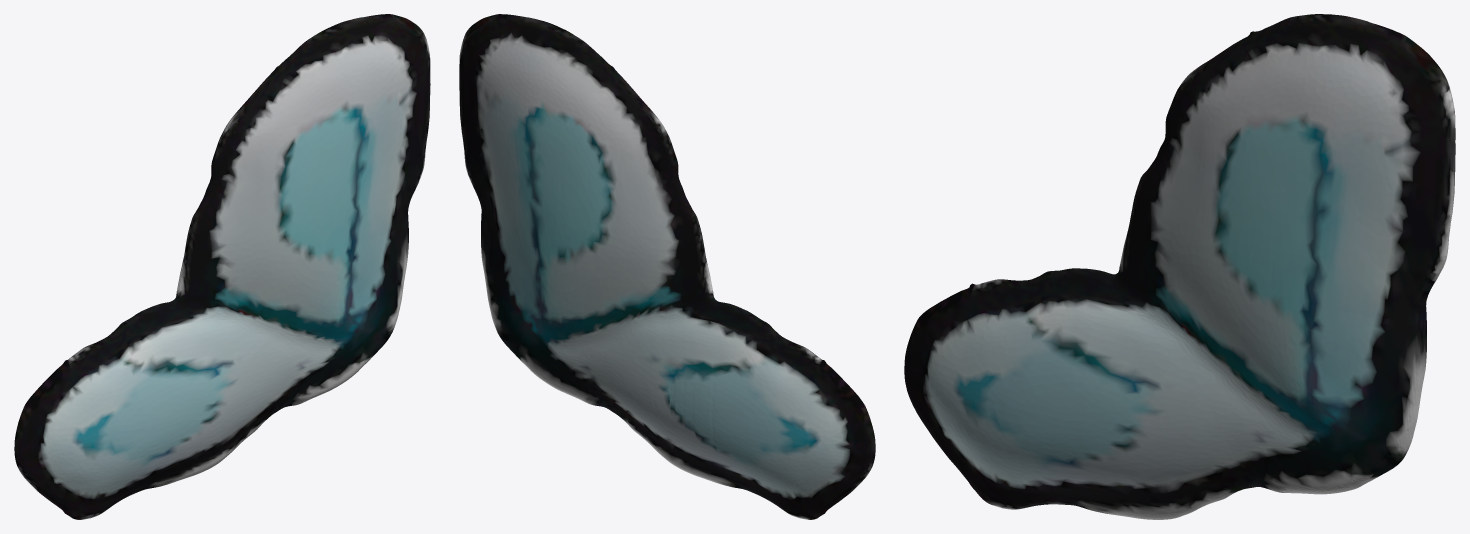
Rendered from insect_wing.glb.
3 renders of one model, left to right at view 1: azimuth 30°, elevation 25°; view 2: azimuth 150°, elevation 25°; view 3: azimuth 330°, elevation 25°, orthographic. The views are drawn at different scales.
Visible parts, largest first — view 1: geometry_0; view 2: geometry_0; view 3: geometry_0.
Part boxes in pixels (x1,y1,x2,y2): geometry_0: (14,14,430,519); geometry_0: (459,14,875,519); geometry_0: (904,14,1455,519).
Size of the model in its own units: 0.4688 by 0.4684 by 0.0682.
